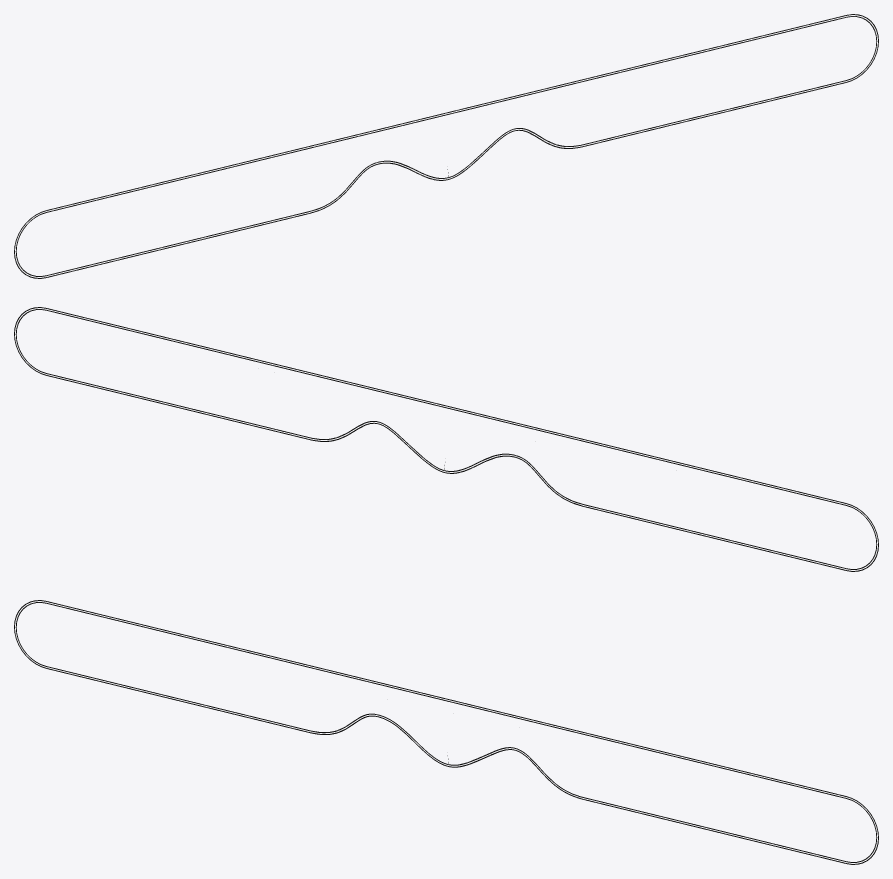
The model's file is lignenoire.gltf.
The picture shows the model from 3 angles, top to bottom: view 1: azimuth 30°, elevation 25°; view 2: azimuth 150°, elevation 25°; view 3: azimuth 330°, elevation 25°; orthographic projection.
Parts seen in each view (by area): view 1: LigneNoire; view 2: LigneNoire; view 3: LigneNoire.
Part boxes in pixels (x1,y1,x2,y2): LigneNoire: (14,14,878,278); LigneNoire: (14,307,878,571); LigneNoire: (14,600,878,864).
Size of the model in its own units: 48.65 by 3.65 by 0.003.
1 material, 1 textured.
